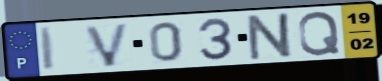0: (146, 20, 188, 64)
3: (196, 16, 235, 63)
I: (38, 25, 58, 72)
N: (246, 10, 296, 62)
Q: (296, 10, 342, 57)
V: (82, 21, 132, 69)
